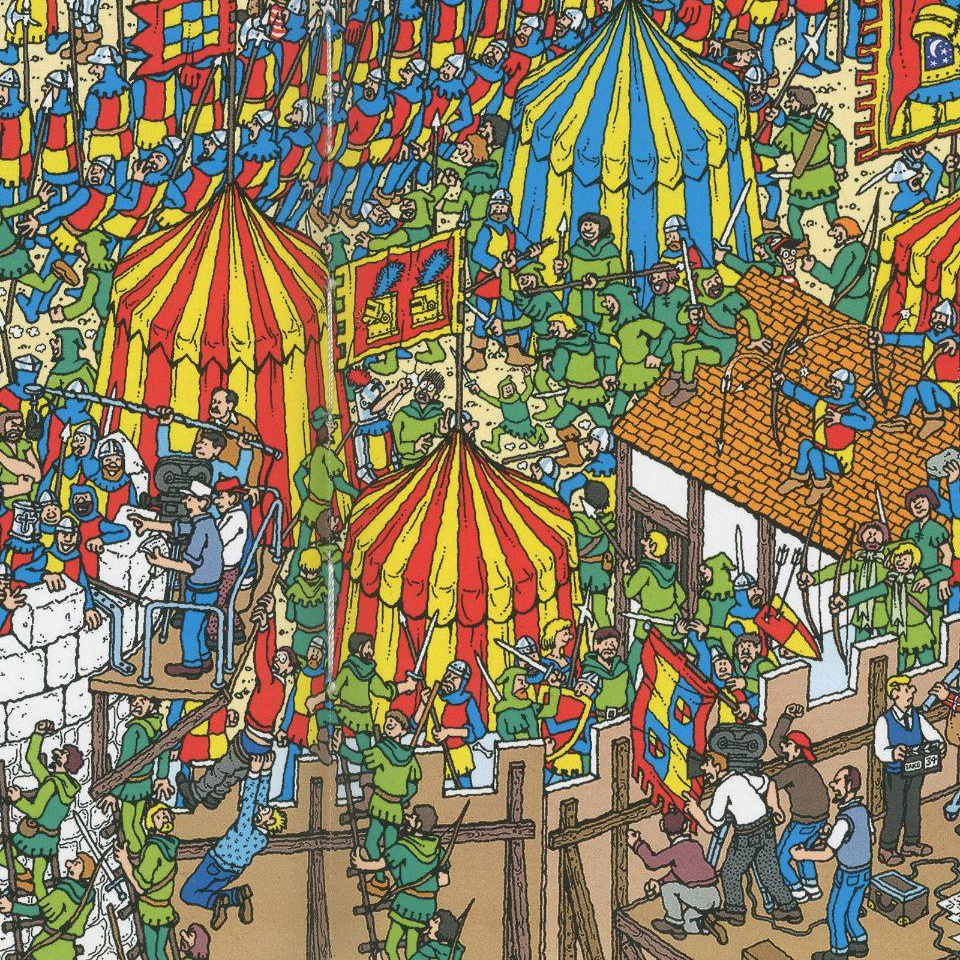waldo: (766, 236, 804, 275)
